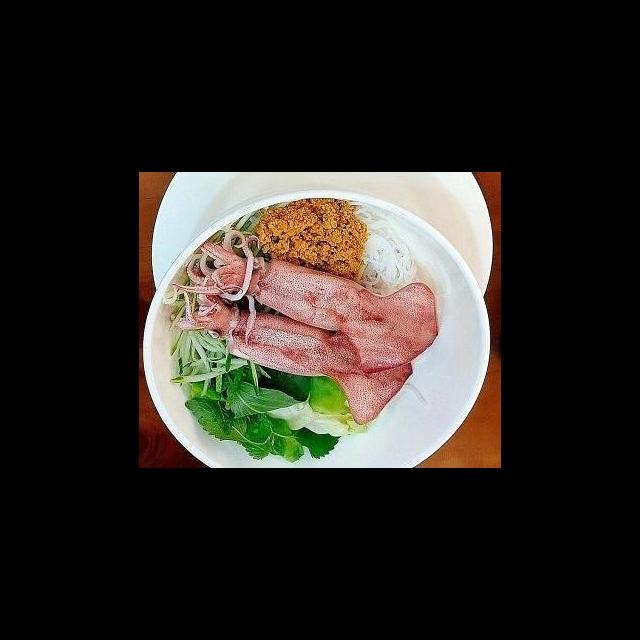bun: (341, 198, 452, 302)
muc: (165, 227, 441, 375), (167, 280, 415, 426)
